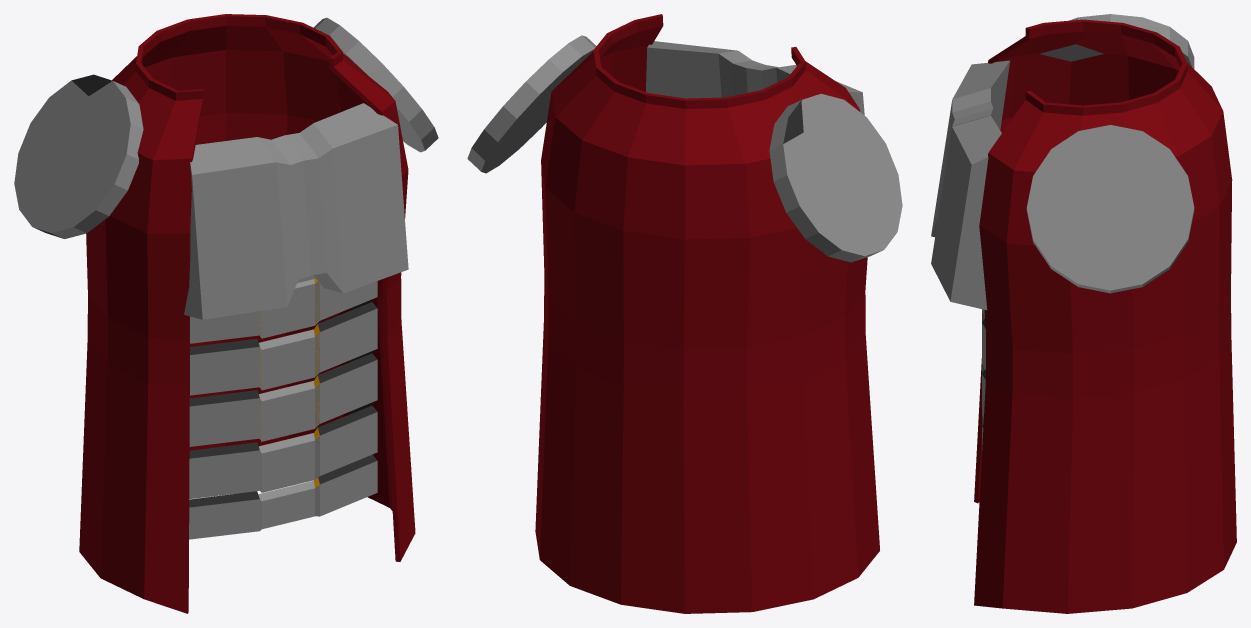
The model's file is PyroKnight_Model_Armor_Default(ver0.1)_FantasyTactics.fbx.
The picture shows the model from 3 angles, left to right: view 1: azimuth 30°, elevation 25°; view 2: azimuth 150°, elevation 25°; view 3: azimuth 270°, elevation 25°; orthographic projection. The views are drawn at different scales.
Visible parts, largest first — view 1: Pyro Knight Body Armor; view 2: Pyro Knight Body Armor; view 3: Pyro Knight Body Armor.
Part boxes in pixels (x1,y1,x2,y2): Pyro Knight Body Armor: (14, 14, 438, 613); Pyro Knight Body Armor: (467, 14, 902, 613); Pyro Knight Body Armor: (931, 14, 1236, 613).
Bounding box in the file's own units: 130 × 158 × 88.63.
